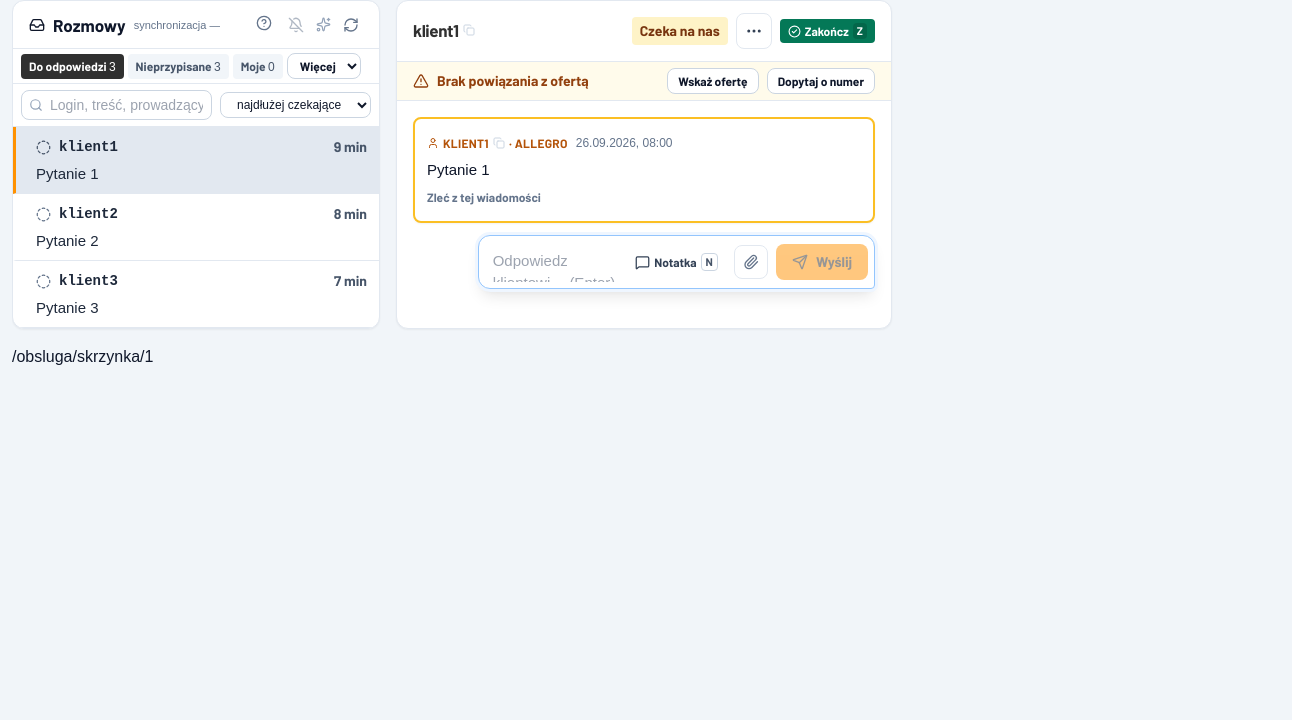
Test: EKRAN SKRZYNKI: pętla pracy › wysyłka przechodzi dalej, a wysyłka POPRZEDNIEJ nie gasi przycisku bieżącej
In the text box named "Szkic odpowiedzi": (556, 262) [493,242,619,282], type "Już wysyłamy."
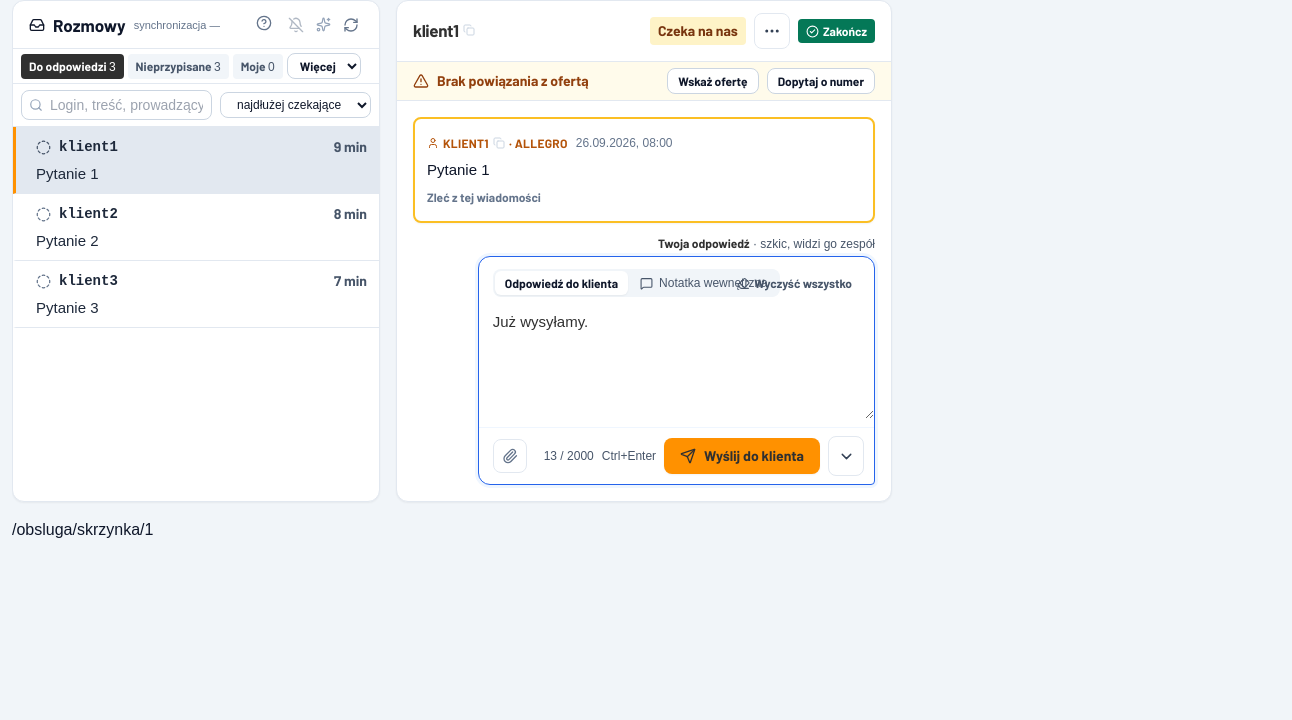
Click the button "Wyślij do klienta": (742, 456) [664,438,820,474]
Wait 10500 ms
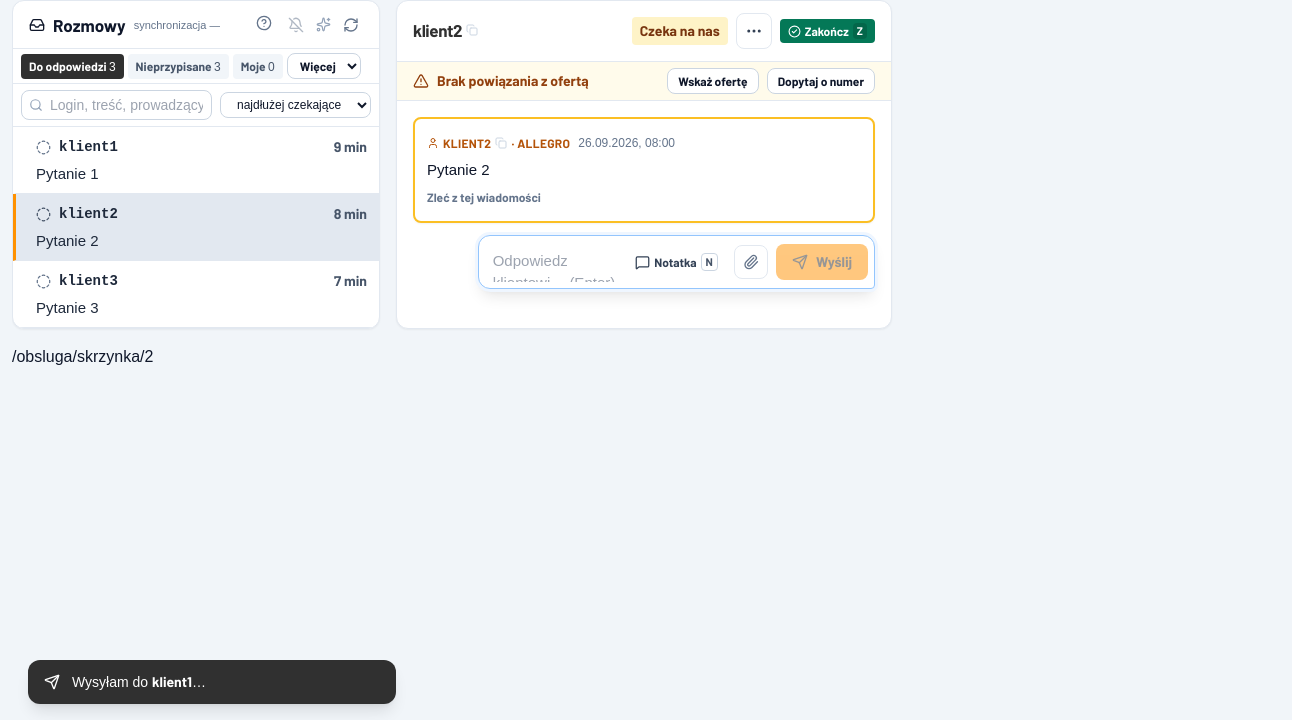
Check: the text named "adres" reads "/obsluga/skrzynka/2", box [12,348,153,365]
Check: the text "Wysyłam do klient1…" is shown, box [72,673,206,690]
In the text box named "Szkic odpowiedzi": (556, 262) [493,242,619,282], type "Druga odpowiedź."
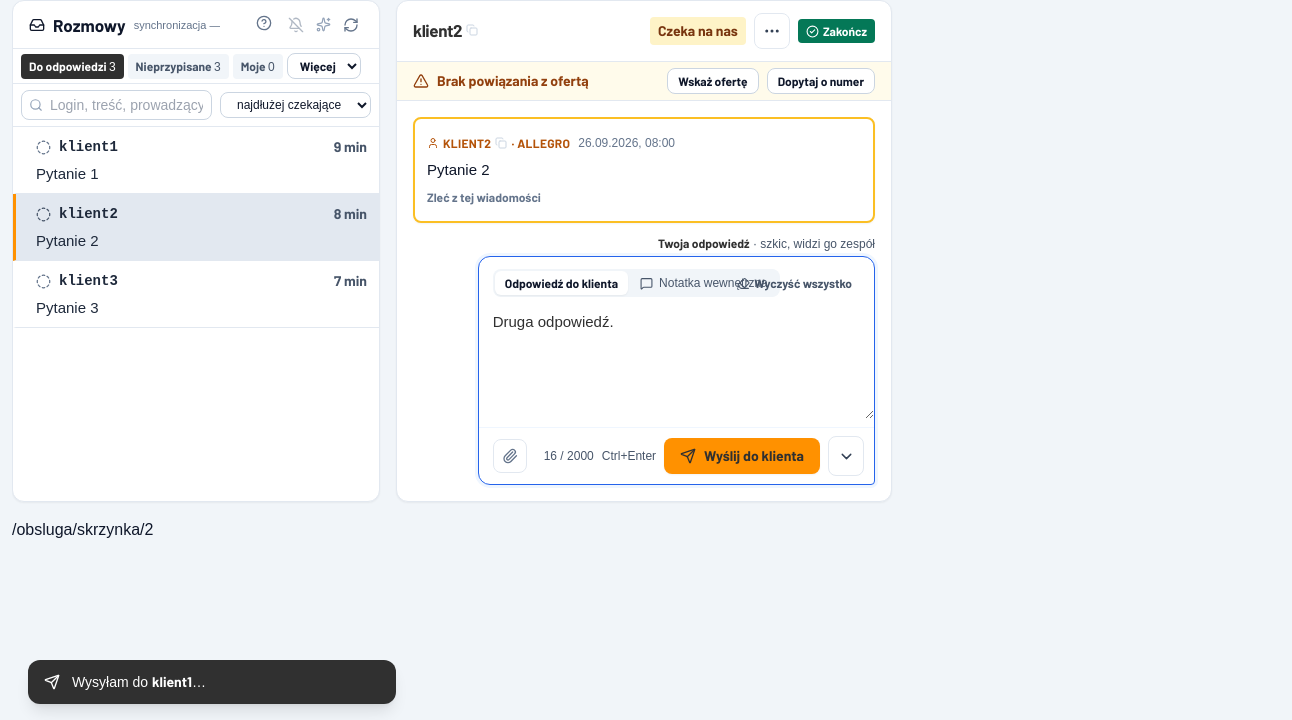
Check: the button "Wyślij do klienta" does not show "Wysyłam", box [664,438,820,474]
Check: the button "Wyślij do klienta" is enabled, box [664,438,820,474]
